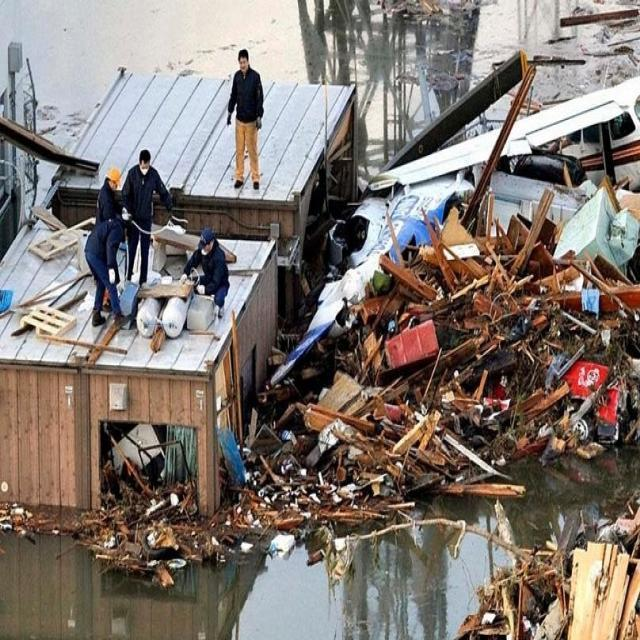rescuer: (227, 42, 273, 192), (88, 194, 126, 321), (130, 144, 163, 287), (187, 226, 234, 308), (97, 160, 124, 216)
